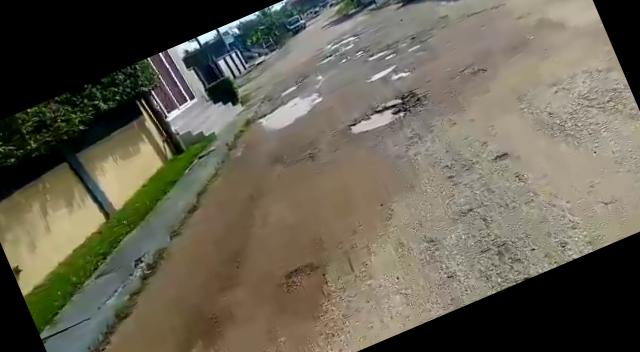pothole: (342, 88, 424, 140), (246, 86, 326, 138), (282, 258, 324, 292), (362, 61, 400, 83)
